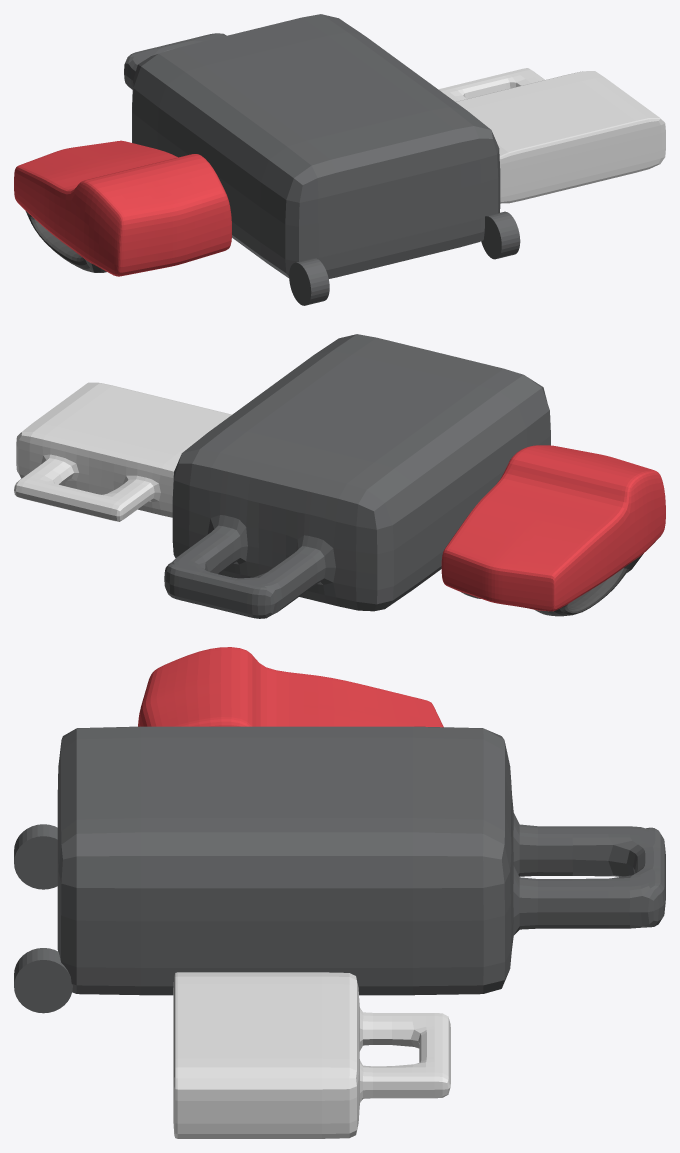
Rendered from luggage.glb.
3 renders of one model, top to bottom at view 1: azimuth 30°, elevation 25°; view 2: azimuth 150°, elevation 25°; view 3: azimuth 270°, elevation 25°, orthographic. The views are drawn at different scales.
Parts seen in each view (by area): view 1: Cube.001, Cube, Cube.002; view 2: Cube.001, Cube, Cube.002; view 3: Cube.001, Cube.002, Cube.
Boxes of the visible parts, x1,y1,x2,y2 form: Cube.001: [124, 14, 520, 305]; Cube: [14, 140, 231, 276]; Cube.002: [438, 68, 665, 203]; Cube.001: [164, 334, 550, 618]; Cube: [441, 445, 665, 616]; Cube.002: [14, 382, 231, 521]; Cube.001: [14, 726, 665, 1013]; Cube.002: [173, 972, 450, 1138]; Cube: [138, 647, 443, 727].
Size of the model in its own units: 1.99 by 0.4248 by 1.5.
